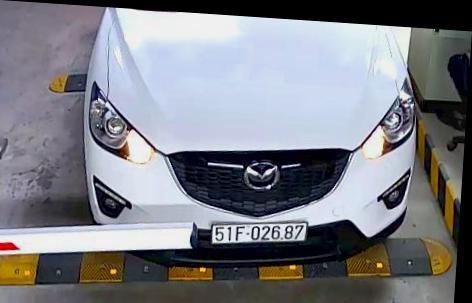License_Plate: (209, 215, 309, 251)
